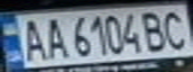0: (103, 11, 124, 55)
1: (87, 11, 109, 56)
4: (121, 10, 145, 54)
6: (66, 12, 90, 57)
A: (15, 16, 48, 62), (39, 15, 69, 61)
B: (139, 8, 172, 53)
C: (157, 7, 193, 52)
